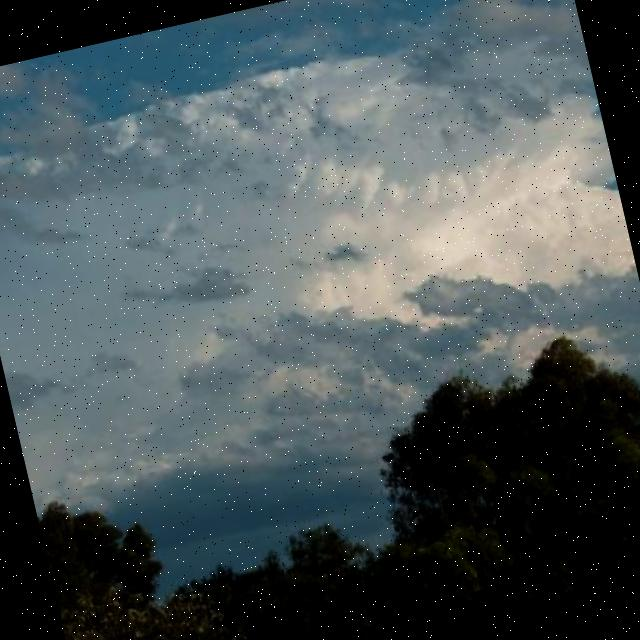Cb: (1, 1, 640, 454)
